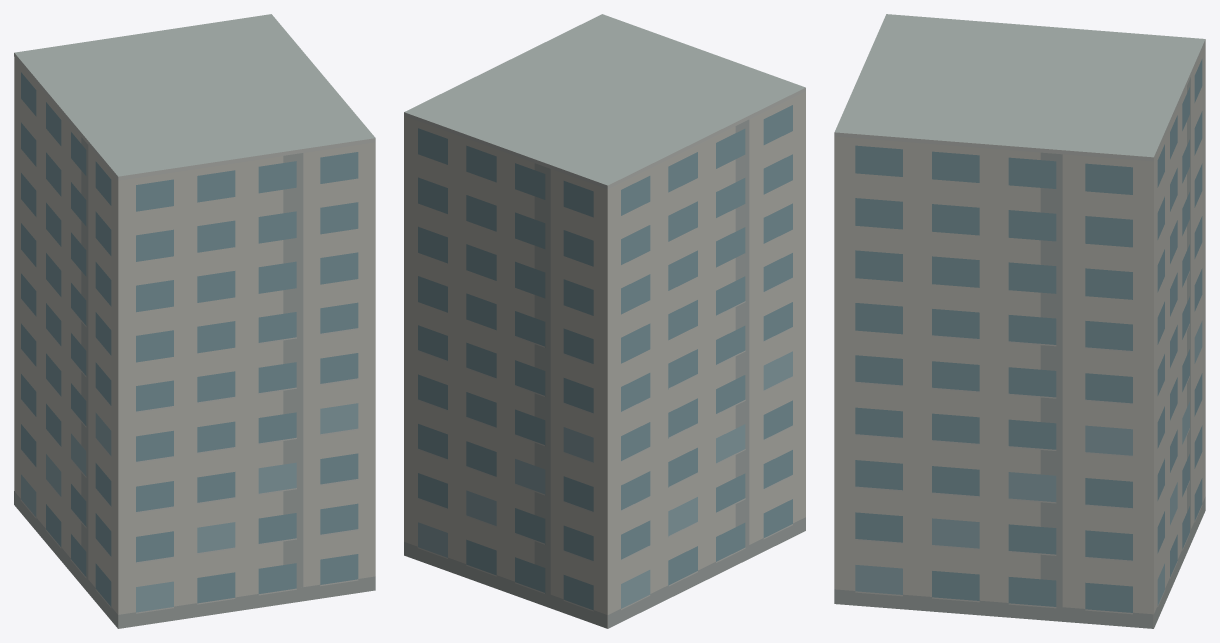
The model's file is residential-7383d35f-f466-49a7-ad96-1d1b3b0942c2.glb.
3 renders of one model, left to right at view 1: azimuth 30°, elevation 25°; view 2: azimuth 150°, elevation 25°; view 3: azimuth 270°, elevation 25°, orthographic. The views are drawn at different scales.
Visible parts, largest first — view 1: residential-7383d35f-f466-49a7-ad96-1d1b3b0942c2.tmp; view 2: residential-7383d35f-f466-49a7-ad96-1d1b3b0942c2.tmp; view 3: residential-7383d35f-f466-49a7-ad96-1d1b3b0942c2.tmp.
Part boxes in pixels (left/top/right/bottom): residential-7383d35f-f466-49a7-ad96-1d1b3b0942c2.tmp: left=14, top=14, right=375, bottom=628; residential-7383d35f-f466-49a7-ad96-1d1b3b0942c2.tmp: left=404, top=14, right=805, bottom=628; residential-7383d35f-f466-49a7-ad96-1d1b3b0942c2.tmp: left=834, top=14, right=1205, bottom=628.
Size of the model in its own units: 18.26 by 28 by 19.98.
